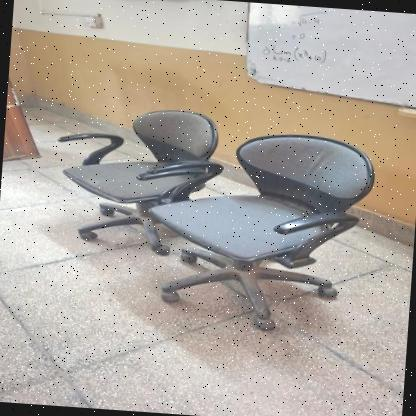chair: (143, 124, 382, 340), (51, 98, 230, 254)
